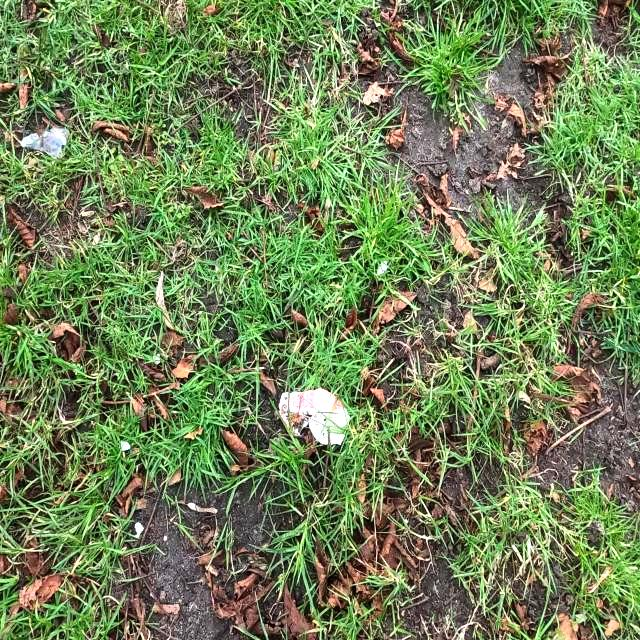Paper: (278, 387, 350, 447)
